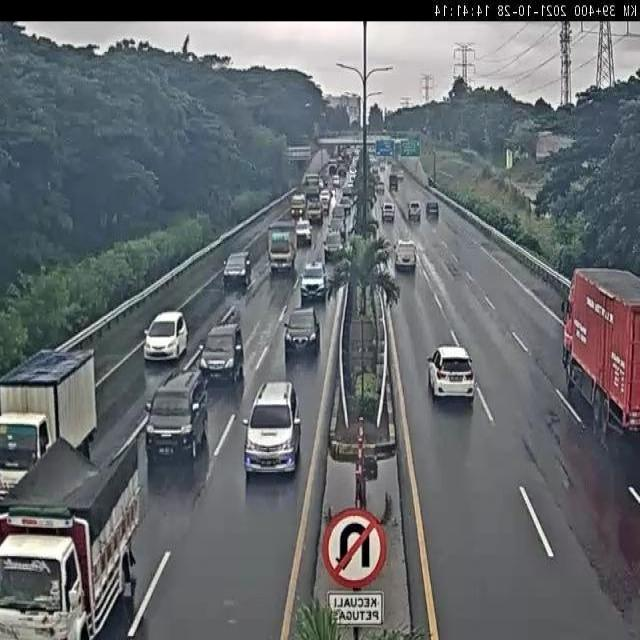Car: (142, 370, 208, 466), (244, 378, 304, 474), (199, 321, 245, 386), (427, 343, 475, 400), (144, 310, 188, 362), (284, 304, 320, 358), (299, 262, 328, 304), (223, 252, 251, 290), (295, 218, 313, 247), (407, 200, 421, 221), (381, 202, 395, 222), (375, 180, 385, 194)
Truck: (0, 432, 146, 640), (0, 343, 96, 504), (561, 264, 640, 435), (267, 219, 298, 273), (289, 193, 307, 220), (306, 197, 324, 223), (304, 172, 320, 198)
Van: (393, 238, 417, 270)
